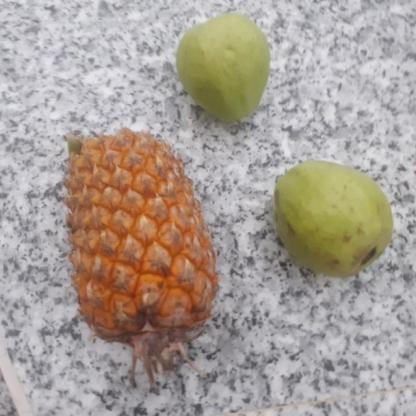guava: (268, 158, 392, 275), (172, 15, 272, 119)
pineapple: (59, 123, 215, 340)
